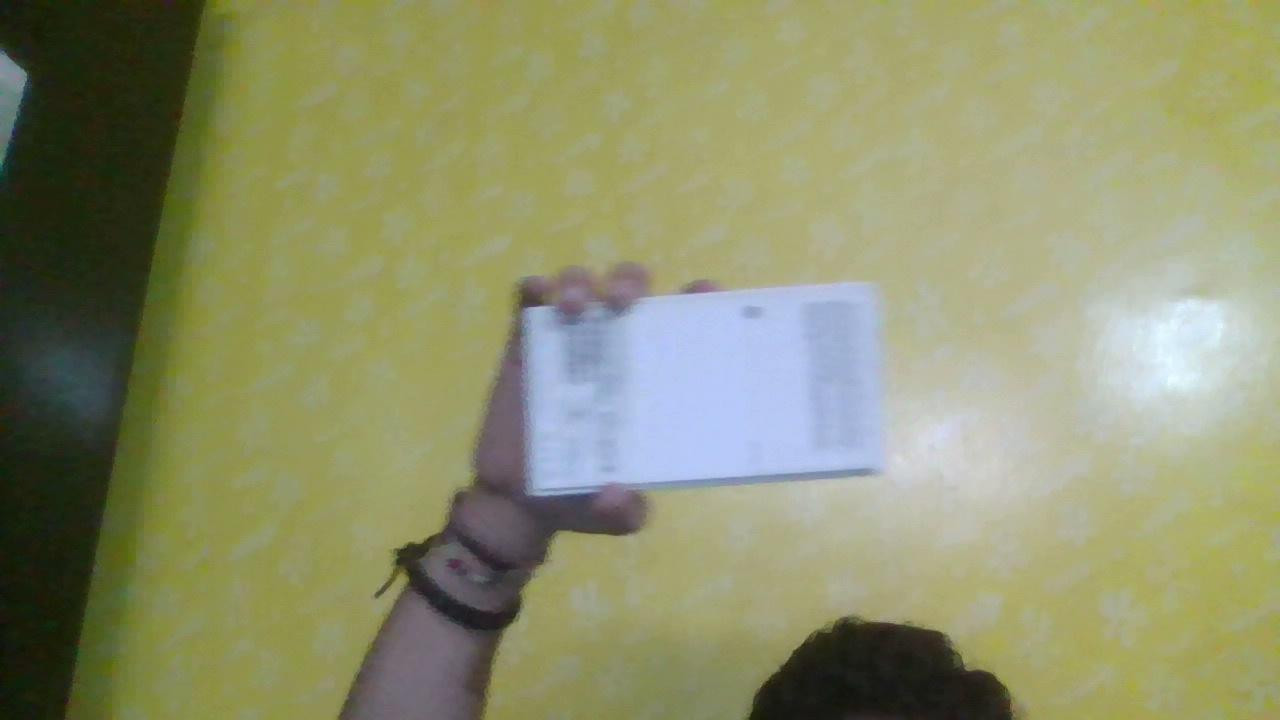Phone: (479, 267, 921, 509)
